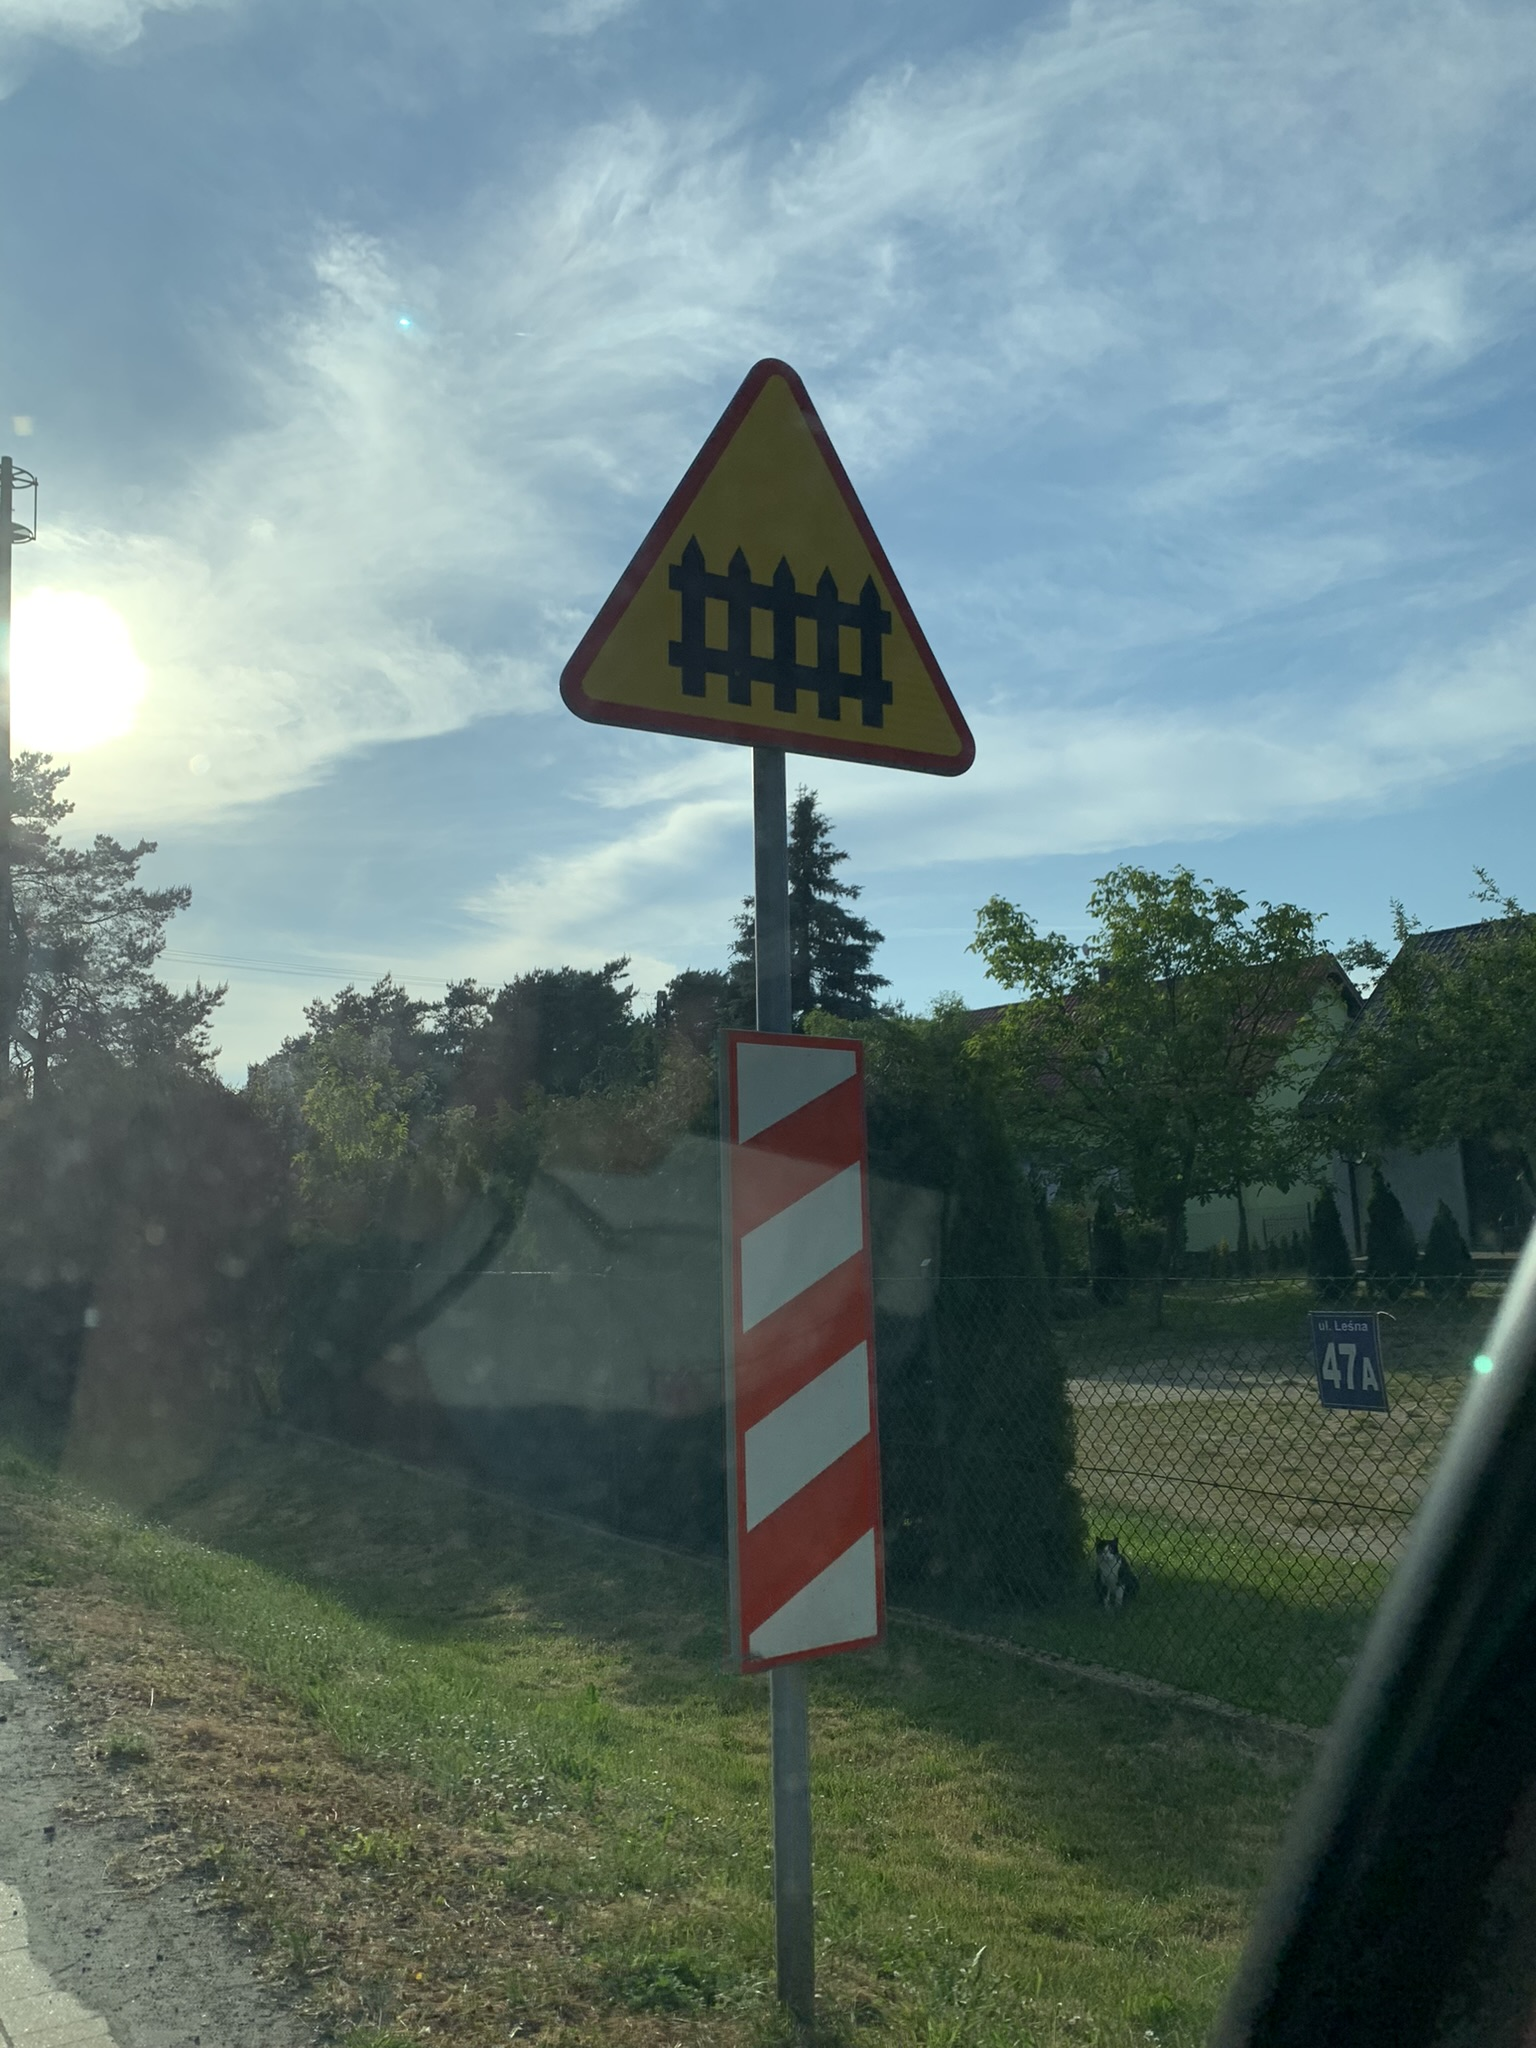a9: (645, 518, 916, 753)
